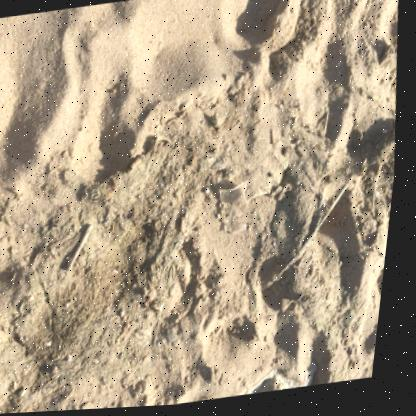Plastic: (223, 183, 252, 237), (170, 329, 184, 346)
Waste: (134, 158, 144, 171), (184, 219, 189, 232)
